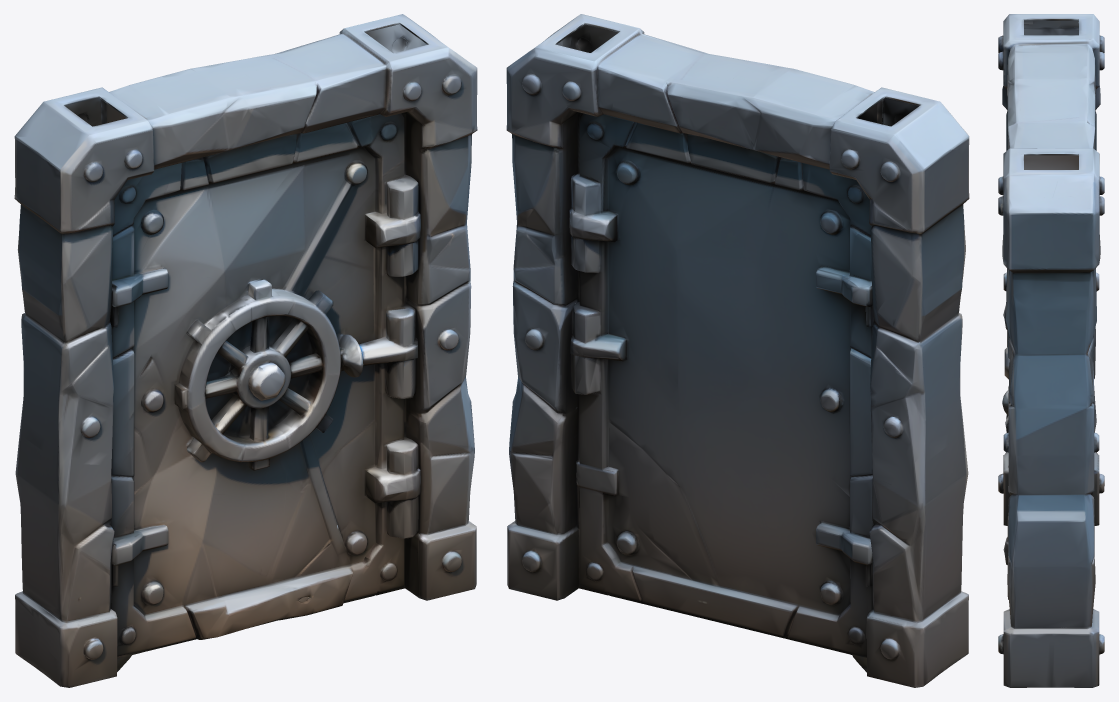
File: OH_VaultDoor.fbx
3 views of the same model, side by side, from view 1: azimuth 30°, elevation 25°; view 2: azimuth 150°, elevation 25°; view 3: azimuth 270°, elevation 25° (orthographic). The views are drawn at different scales.
Parts seen in each view (by area): view 1: node_0; view 2: node_0; view 3: node_0.
Part boxes in pixels (bbox=[...]): node_0: bbox=[14, 14, 477, 687]; node_0: bbox=[506, 14, 969, 687]; node_0: bbox=[998, 14, 1104, 687].
Bounding box in the file's own units: 74.61 × 93.25 × 17.97.
Materials: 1 (1 with a texture image).
